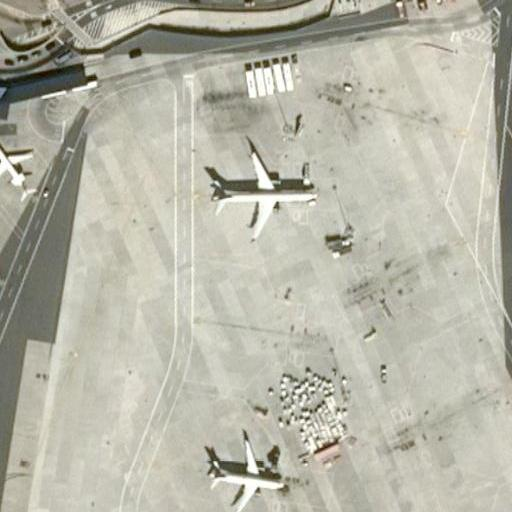Aircraft: (203, 144, 315, 235), (204, 428, 284, 511), (0, 142, 32, 193)
